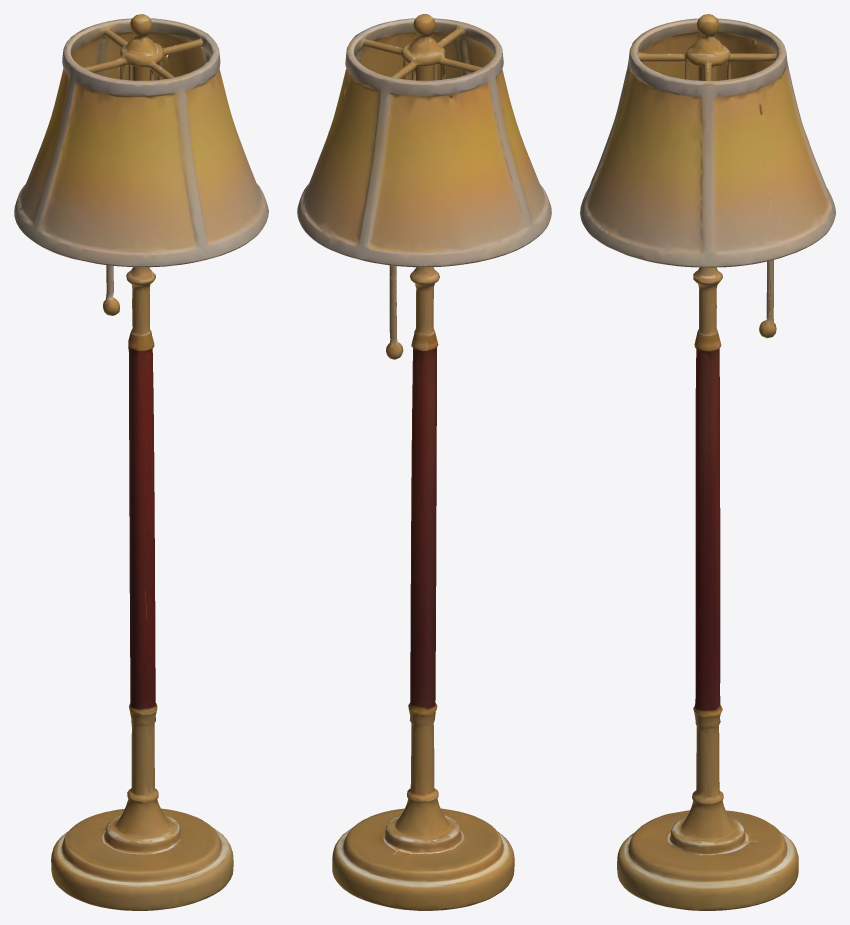
File: classic+floor+lamp+3d+model.obj
3 renders of one model, left to right at view 1: azimuth 30°, elevation 25°; view 2: azimuth 150°, elevation 25°; view 3: azimuth 270°, elevation 25°, orthographic.
Parts seen in each view (by area): view 1: tripo_node_4d88039e-4a5f-43c8-b165-1cfbe4675849; view 2: tripo_node_4d88039e-4a5f-43c8-b165-1cfbe4675849; view 3: tripo_node_4d88039e-4a5f-43c8-b165-1cfbe4675849.
Boxes of the visible parts, <box> form: tripo_node_4d88039e-4a5f-43c8-b165-1cfbe4675849: <box>14,14,268,910</box>; tripo_node_4d88039e-4a5f-43c8-b165-1cfbe4675849: <box>297,14,551,910</box>; tripo_node_4d88039e-4a5f-43c8-b165-1cfbe4675849: <box>580,14,835,910</box>.
Bounding box in the file's own units: 0.2685 × 0.9996 × 0.2695.
1 material, 1 textured.
